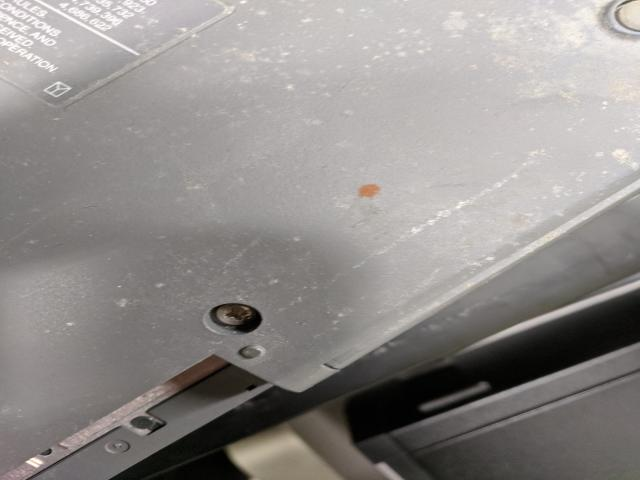CRS: (213, 298, 263, 328)
